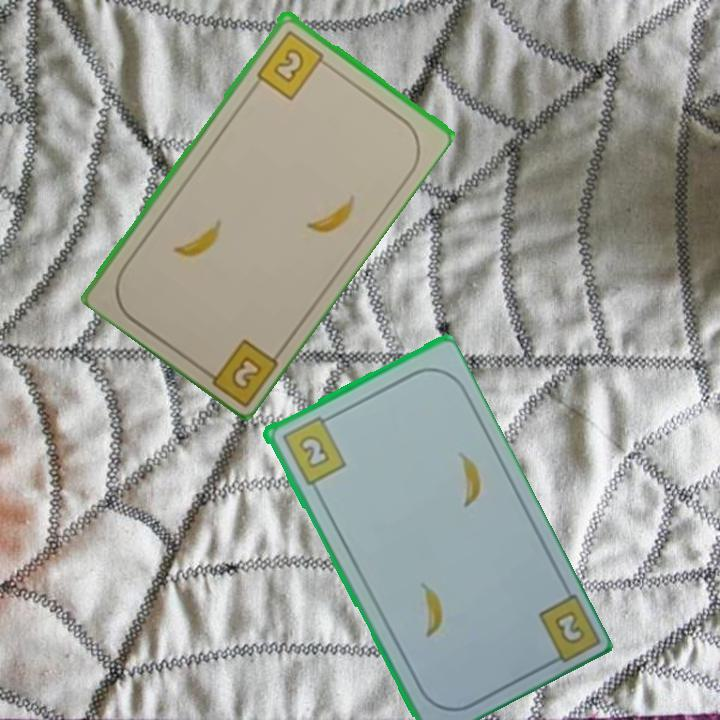2b: (252, 26, 333, 102), (196, 334, 281, 406), (278, 411, 349, 488), (550, 606, 584, 644)
